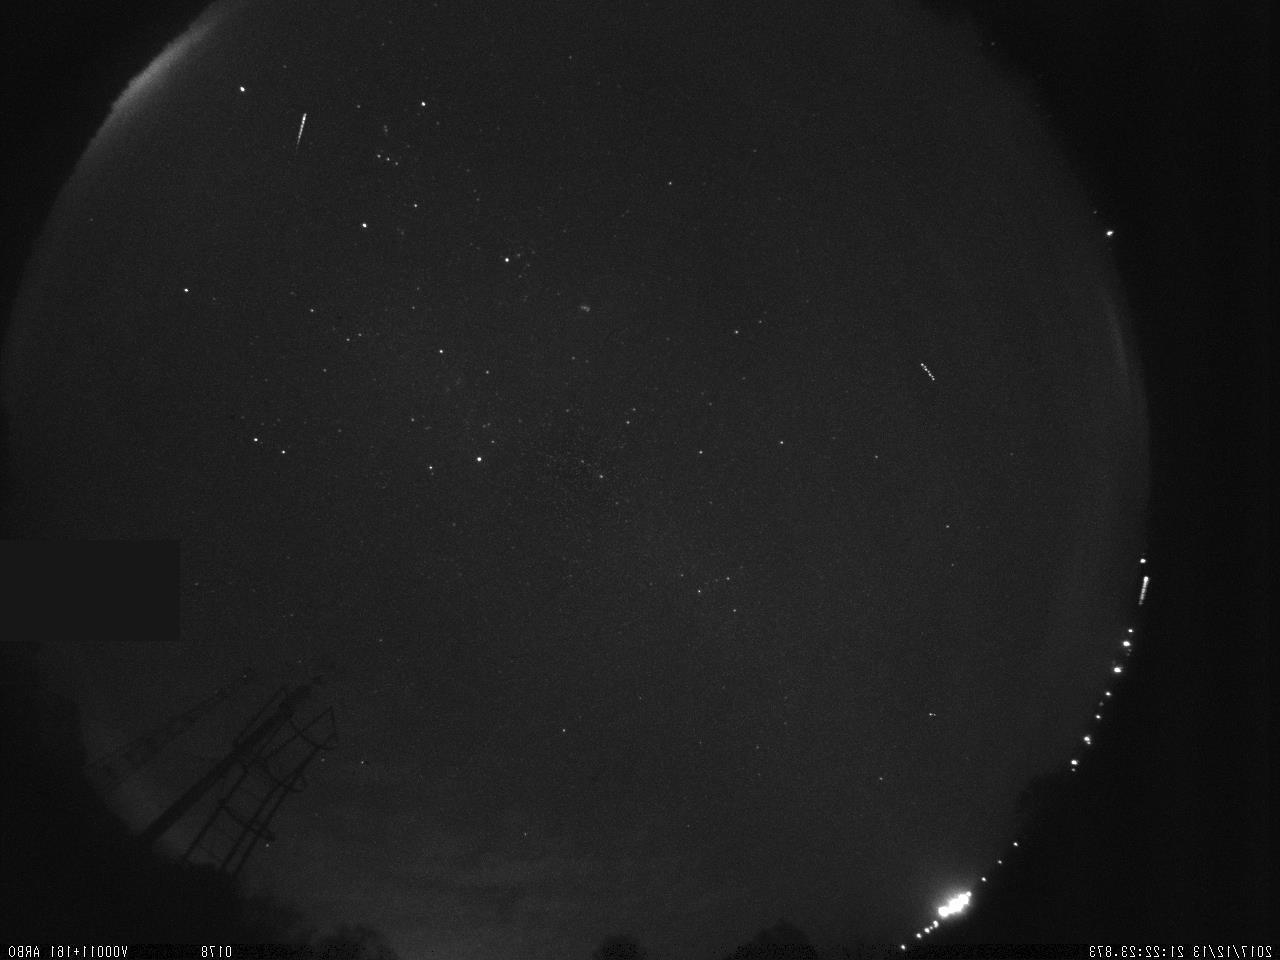meteor: (265, 94, 331, 167)
